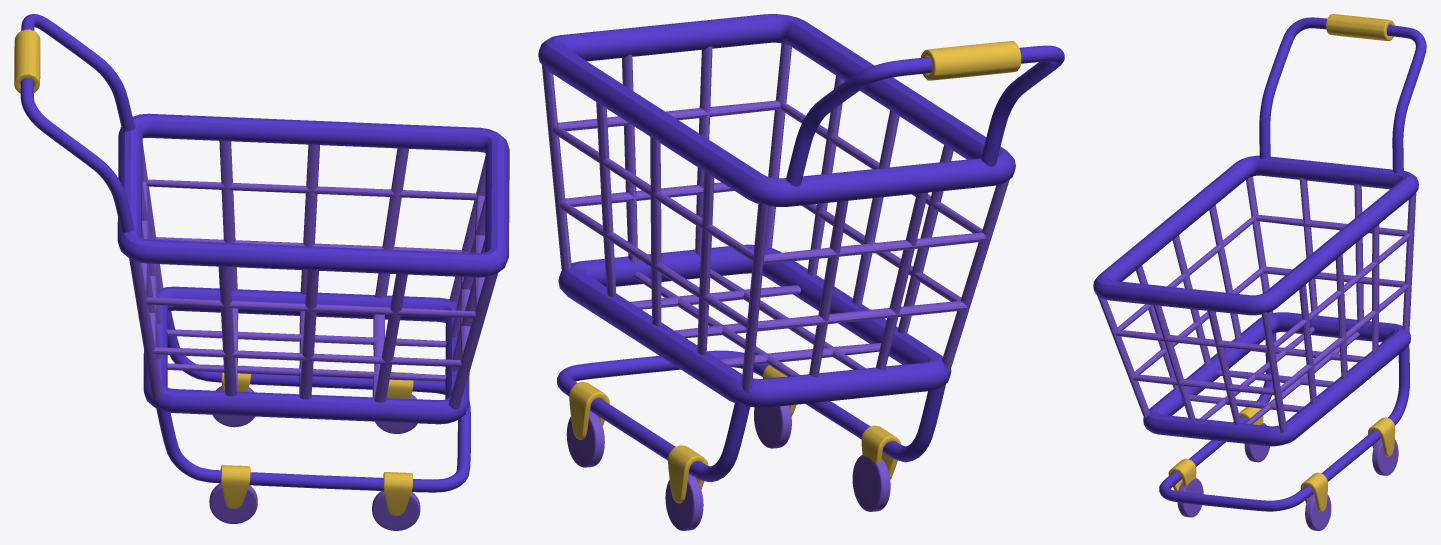
The model's file is trolley-3d-icon-167049270379.glb.
3 renders of one model, left to right at view 1: azimuth 30°, elevation 25°; view 2: azimuth 150°, elevation 25°; view 3: azimuth 270°, elevation 25°, orthographic. The views are drawn at different scales.
Parts seen in each view (by area): view 1: Frame, Cart & Wheels, Legs & Handle; view 2: Frame, Cart & Wheels, Legs & Handle; view 3: Frame, Cart & Wheels, Legs & Handle.
Part boxes in pixels (x1,y1,x2,y2): Frame: (20, 14, 509, 492); Cart & Wheels: (129, 141, 497, 530); Legs & Handle: (14, 29, 413, 515); Frame: (538, 14, 1064, 481); Cart & Wheels: (541, 43, 1009, 530); Legs & Handle: (569, 41, 1021, 503); Frame: (1093, 17, 1426, 511); Cart & Wheels: (1097, 176, 1416, 530); Legs & Handle: (1168, 14, 1395, 512).
Bounding box in the file's own units: 1.83 × 1.83 × 1.41.
